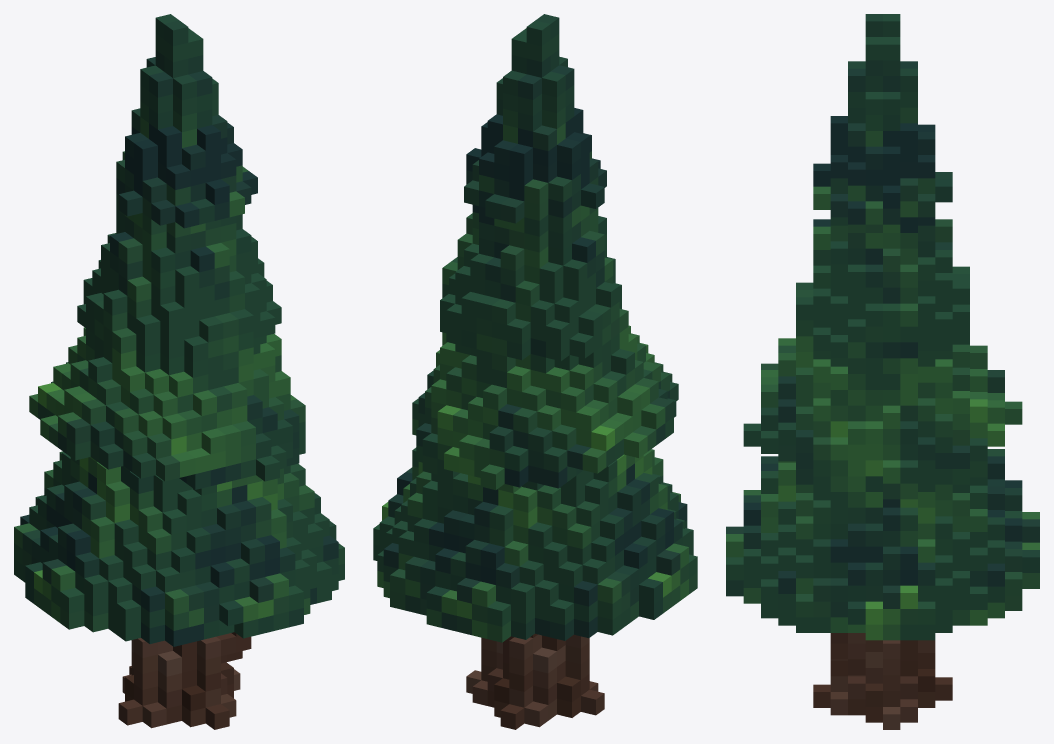
The model's file is Conifer7.fbx.
The picture shows the model from 3 angles, left to right: view 1: azimuth 30°, elevation 25°; view 2: azimuth 150°, elevation 25°; view 3: azimuth 270°, elevation 25°; orthographic projection.
Parts seen in each view (by area): view 1: Conifer7; view 2: Conifer7; view 3: Conifer7.
Boxes of the visible parts, x1,y1,x2,y2 form: Conifer7: (14,14,344,729); Conifer7: (373,14,697,729); Conifer7: (726,14,1039,729).
Bounding box in the file's own units: 1.8 × 4.3 × 1.8.
